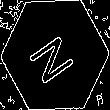N_NE: (26, 24, 84, 86)
